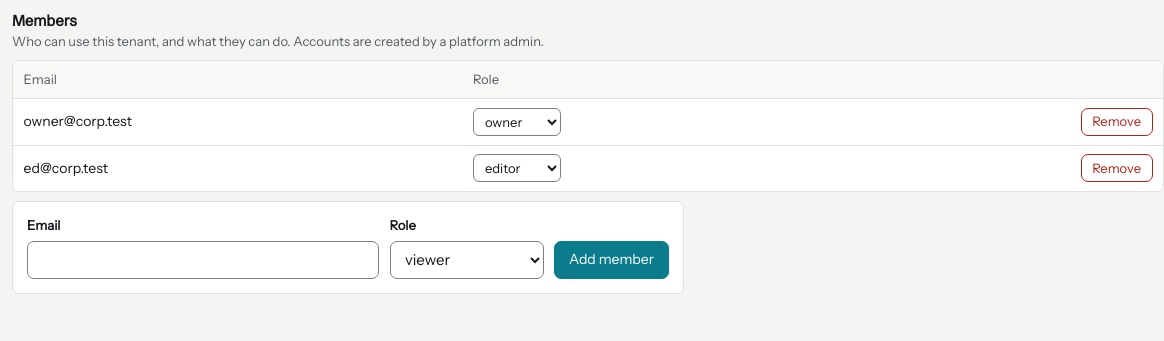
Scenario: changes a role, and explains a refusal to drop the last owner
The width and height of the screenshot is (1164, 341).
Select "admin" in the dropdown named "Role of owner@corp.test" at (517, 122), box [473,108,561,136]
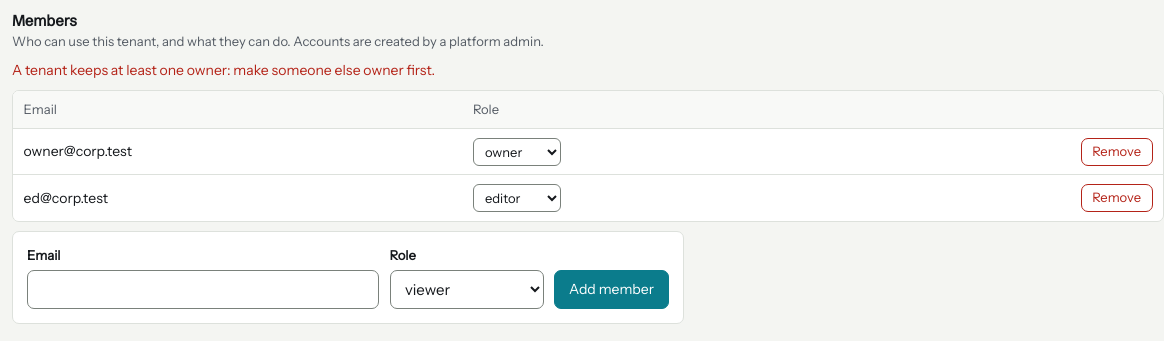
Expected: the message shows "at least one owner", [12,61,435,79]
